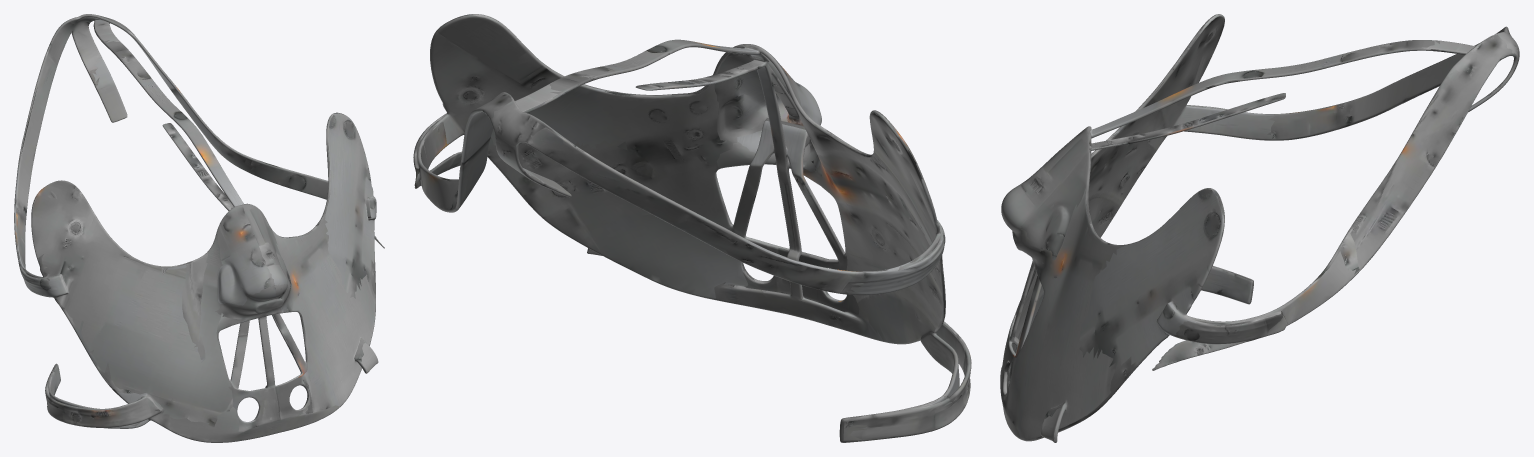
Rendered from masque - le silence des agneaux.glb.
3 renders of one model, left to right at view 1: azimuth 30°, elevation 25°; view 2: azimuth 150°, elevation 25°; view 3: azimuth 270°, elevation 25°, orthographic. The views are drawn at different scales.
Parts seen in each view (by area): view 1: node_0; view 2: node_0; view 3: node_0.
Part boxes in pixels (box(x1,y1,x2,y2)): node_0: box(14, 14, 384, 442); node_0: box(413, 14, 971, 442); node_0: box(1000, 14, 1519, 442).
Size of the model in its own units: 0.9312 by 0.734 by 0.9368.
Materials: 1 (1 with a texture image).
